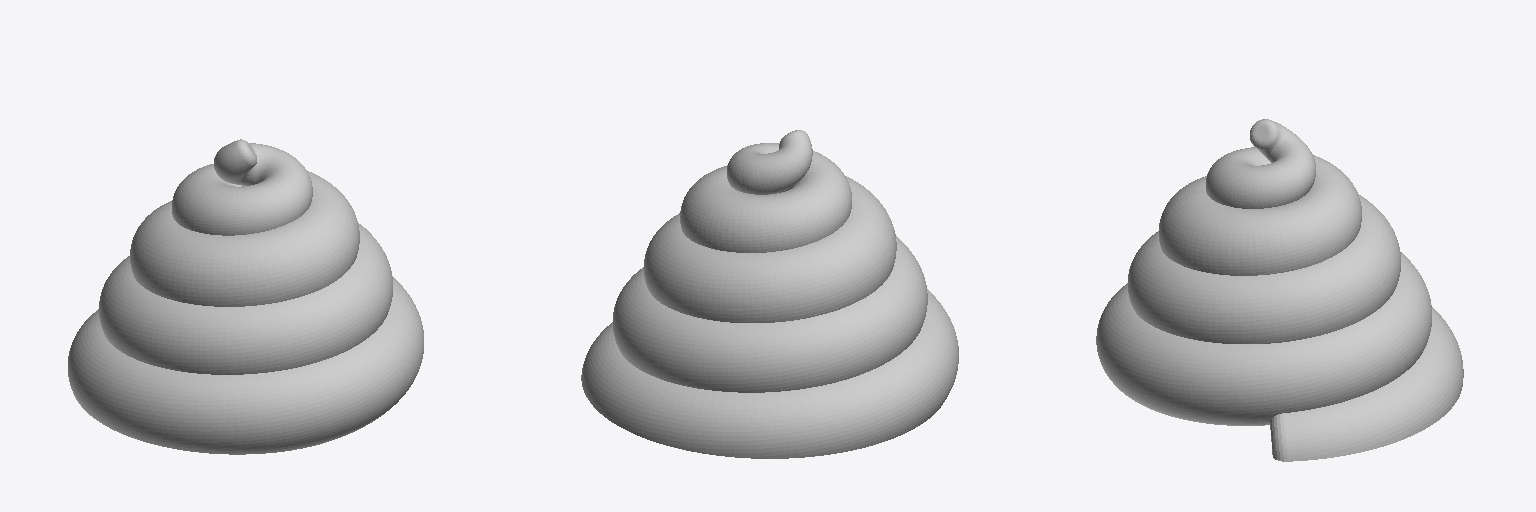
File: poop.obj
3 views of the same model, side by side, from view 1: azimuth 30°, elevation 25°; view 2: azimuth 150°, elevation 25°; view 3: azimuth 270°, elevation 25° (orthographic).
Parts seen in each view (by area): view 1: shit; view 2: shit; view 3: shit.
Boxes of the visible parts, <box> form: shit: <box>68,139,423,454</box>; shit: <box>581,130,958,458</box>; shit: <box>1096,119,1463,461</box>.
Bounding box in the file's own units: 1.57 × 1.13 × 1.51.